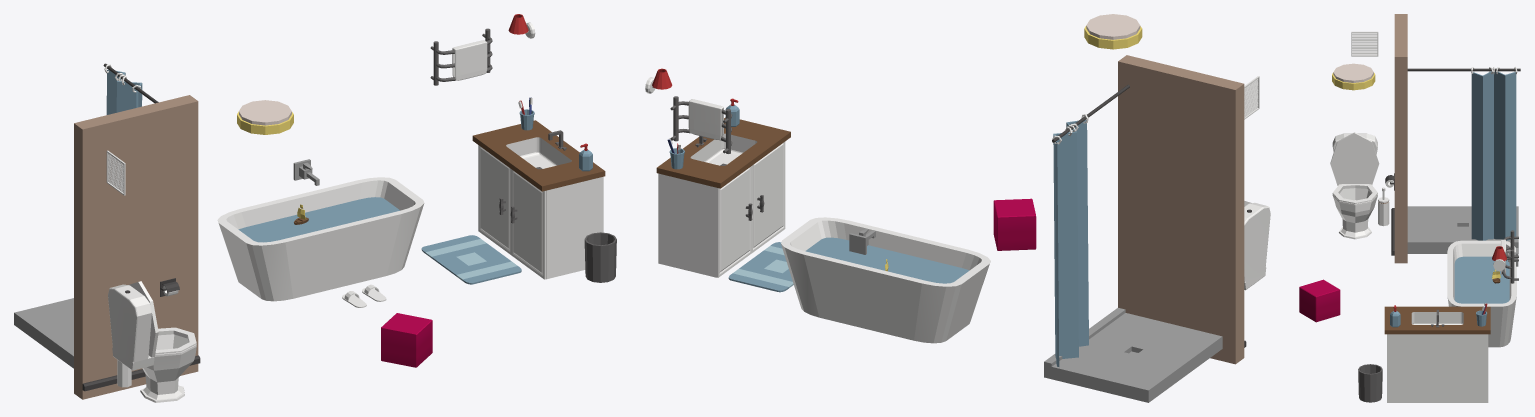
The model's file is Toilet Asset.fbx.
3 renders of one model, left to right at view 1: azimuth 30°, elevation 25°; view 2: azimuth 150°, elevation 25°; view 3: azimuth 270°, elevation 25°, orthographic. The views are drawn at different scales.
Visible parts, largest first — view 1: Toilet.001, Toilet.005, Toilet, Toilet.003, Toilet.007, Toy Box, Toilet.009, Toilet.004, Toilet.008, Toilet.011; view 2: Toilet.001, Toilet.005, Toilet, Toy Box, Toilet.009, Toilet.003, Toilet.007, Toilet.004, Toilet.011; view 3: Toilet.001, Toilet, Toilet.005, Toilet.003, Toy Box, Toilet.004, Toilet.008, Toilet.011, Toilet.009, Toilet.002, Toilet.010.
Boxes of the visible parts, <box> form: Toilet.001: <box>14,63,200,399</box>; Toilet.005: <box>217,159,424,301</box>; Toilet: <box>472,120,605,279</box>; Toilet.003: <box>108,281,196,402</box>; Toilet.007: <box>421,235,521,284</box>; Toy Box: <box>381,313,432,367</box>; Toilet.009: <box>430,28,492,85</box>; Toilet.004: <box>237,100,293,134</box>; Toilet.008: <box>584,232,616,282</box>; Toilet.011: <box>106,150,125,195</box>; Toilet.001: <box>1044,55,1246,402</box>; Toilet.005: <box>781,217,990,343</box>; Toilet: <box>656,117,790,277</box>; Toy Box: <box>993,198,1036,250</box>; Toilet.009: <box>670,96,732,153</box>; Toilet.003: <box>1244,201,1270,290</box>; Toilet.007: <box>728,242,793,292</box>; Toilet.004: <box>1084,14,1142,49</box>; Toilet.011: <box>1244,76,1259,119</box>; Toilet.001: <box>1385,14,1520,263</box>; Toilet: <box>1384,306,1490,402</box>; Toilet.005: <box>1447,240,1518,347</box>; Toilet.003: <box>1330,132,1379,239</box>; Toy Box: <box>1299,279,1340,322</box>; Toilet.004: <box>1332,63,1375,90</box>; Toilet.008: <box>1358,364,1382,402</box>; Toilet.011: <box>1351,31,1378,56</box>; Toilet.009: <box>1501,230,1518,283</box>; Toilet.002: <box>1378,187,1389,226</box>; Toilet.010: <box>1492,246,1506,270</box>.
Bounding box in the file's own units: 601 × 300 × 292.
